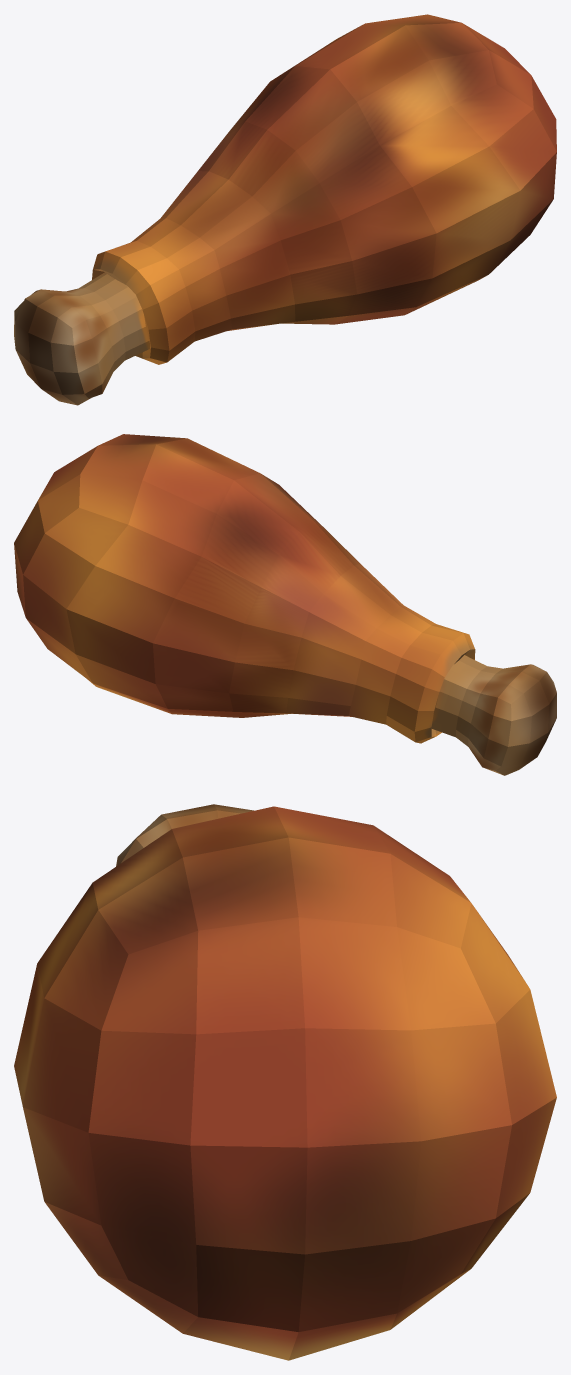
3 views of the same model, one above another, from view 1: azimuth 30°, elevation 25°; view 2: azimuth 150°, elevation 25°; view 3: azimuth 270°, elevation 25° (orthographic). The views are drawn at different scales.
Visible parts, largest first — view 1: chicken.001; view 2: chicken.001; view 3: chicken.001.
Part boxes in pixels (x1,y1,x2,y2): chicken.001: (14, 14, 556, 405); chicken.001: (14, 434, 556, 775); chicken.001: (14, 804, 556, 1360).
Bounding box in the file's own units: 0.2568 × 0.1266 × 0.1233.
1 material, 1 textured.
